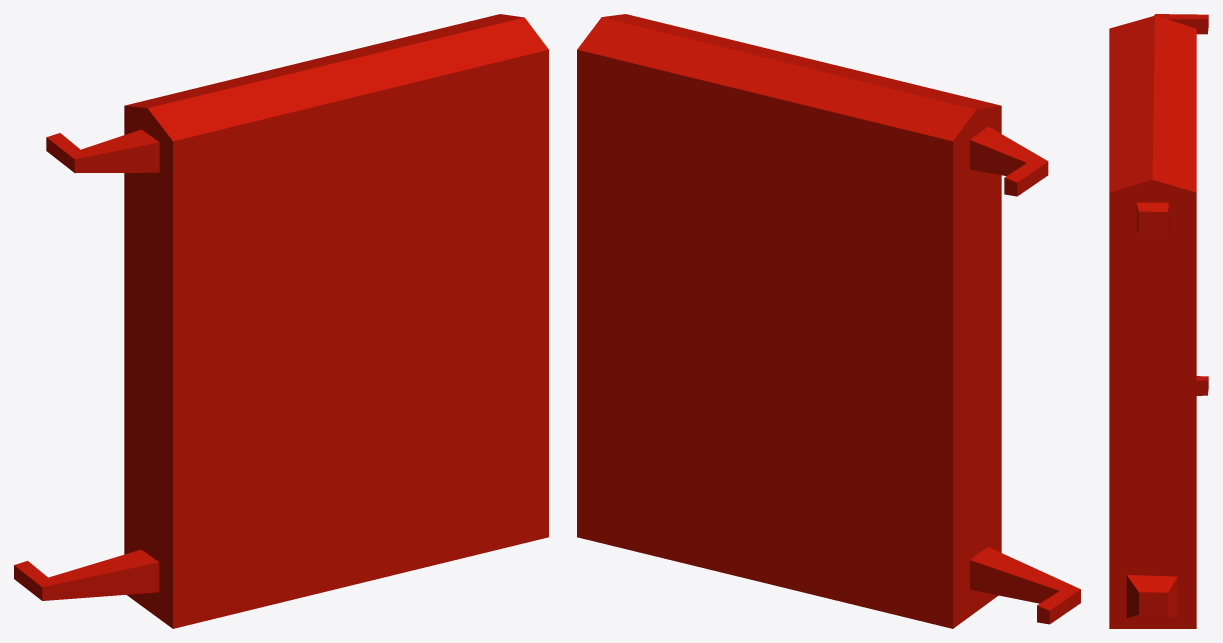
Rendered from UCX_heater.fbx.
3 renders of one model, left to right at view 1: azimuth 30°, elevation 25°; view 2: azimuth 150°, elevation 25°; view 3: azimuth 270°, elevation 25°, orthographic. The views are drawn at different scales.
Parts seen in each view (by area): view 1: UCX_heater; view 2: UCX_heater; view 3: UCX_heater.
Part boxes in pixels (box(x1,y1,x2,y2)): UCX_heater: box(14, 14, 548, 628); UCX_heater: box(577, 14, 1080, 628); UCX_heater: box(1109, 14, 1208, 628).
Size of the model in its own units: 0.7843 by 0.7594 by 0.152.
